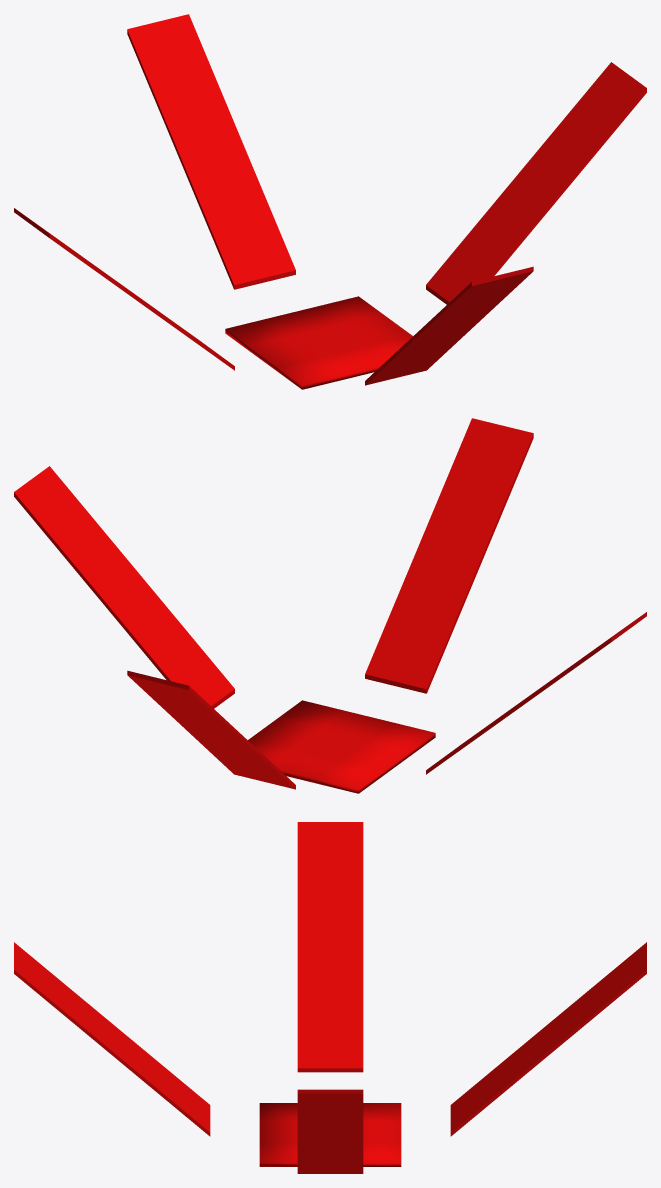
The model's file is bigman-bottom.fbx.
3 renders of one model, top to bottom at view 1: azimuth 30°, elevation 25°; view 2: azimuth 150°, elevation 25°; view 3: azimuth 270°, elevation 25°, orthographic. The views are drawn at different scales.
Parts seen in each view (by area): view 1: bigman_bottom; view 2: bigman_bottom; view 3: bigman_bottom.
Boxes of the visible parts, bbox=[...] form: bigman_bottom: bbox=[14, 14, 646, 389]; bigman_bottom: bbox=[14, 418, 646, 793]; bigman_bottom: bbox=[14, 822, 646, 1173].
Bounding box in the file's own units: 1.3 × 0.4122 × 1.3.
